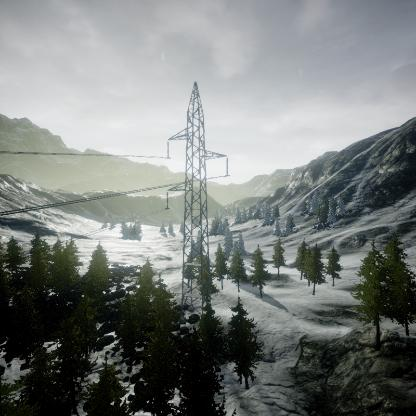tower: (163, 79, 231, 318)
